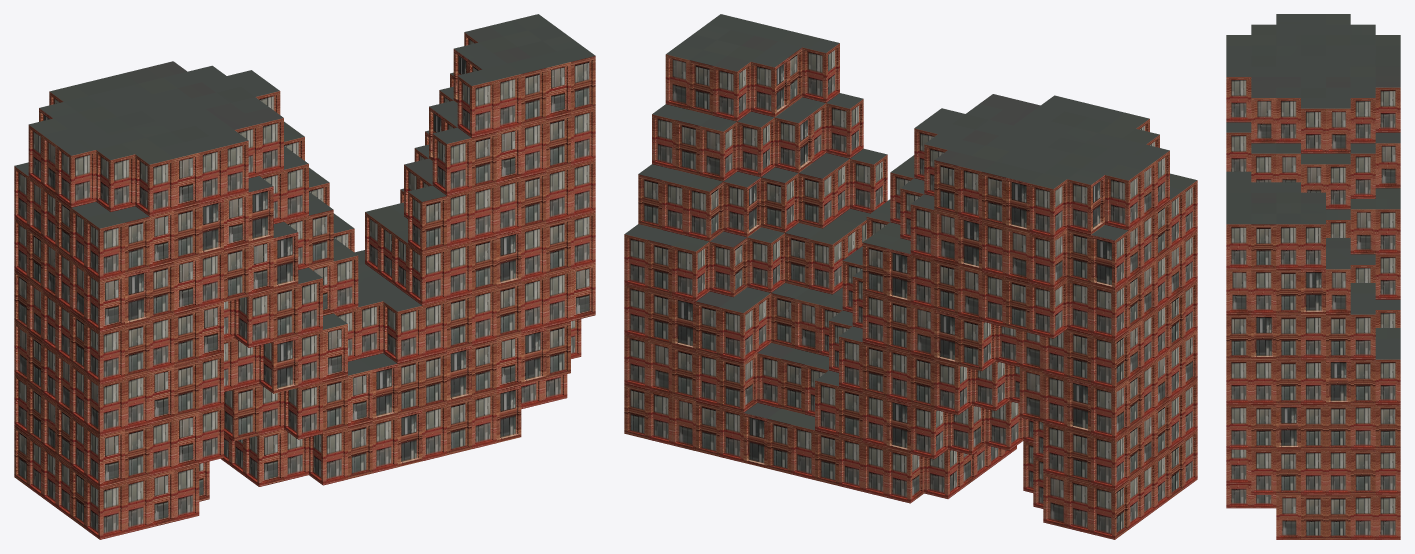
The model's file is archweekend_1.glb.
3 views of the same model, side by side, from view 1: azimuth 30°, elevation 25°; view 2: azimuth 150°, elevation 25°; view 3: azimuth 270°, elevation 25° (orthographic). The views are drawn at different scales.
Visible parts, largest first — view 1: house; view 2: house; view 3: house.
Boxes of the visible parts, bbox=[...] form: house: bbox=[14, 14, 595, 539]; house: bbox=[624, 14, 1197, 539]; house: bbox=[1226, 14, 1400, 539].
Bounding box in the file's own units: 60 × 42 × 21.
Materials: 1 (1 with a texture image).
